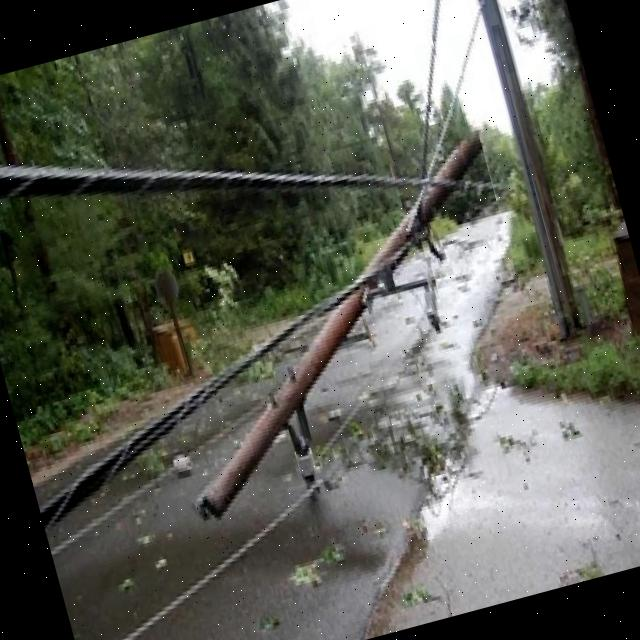Broken Pole: (194, 138, 481, 513)
